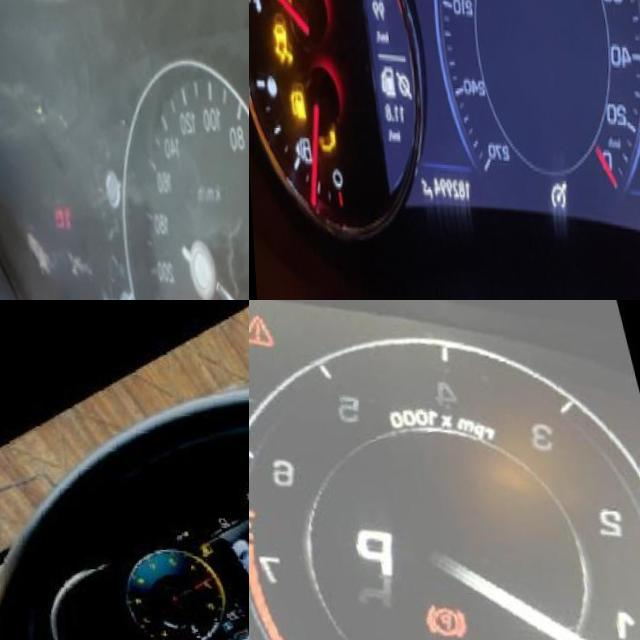Engine cooling system: (179, 613, 193, 627)
